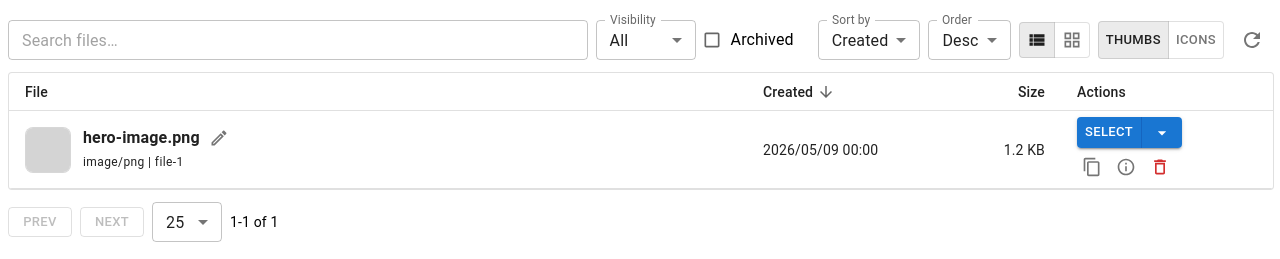
FmMediaLibrary split select menu › closes the image variant menu from keyboard Escape
Check: the text "hero-image.png" is shown, box [83,126,200,150]
Click the button named "select variant size".
click(1162, 133)  # box [1142,117,1182,148]
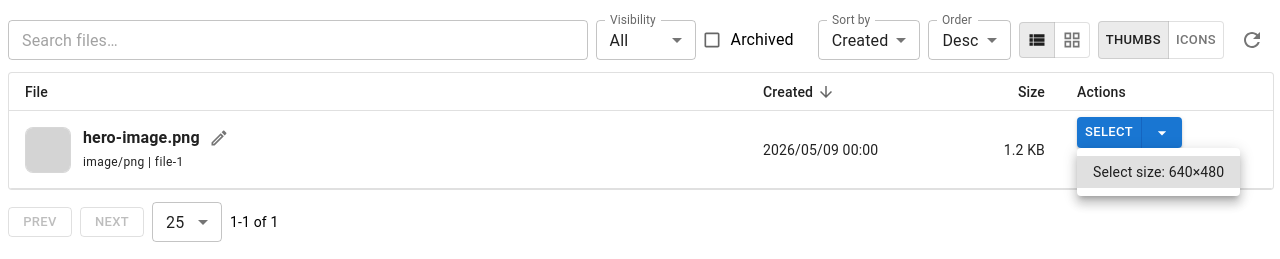
Press Escape in the menu item "Select size: 640×480", box [1077,156,1240,188]
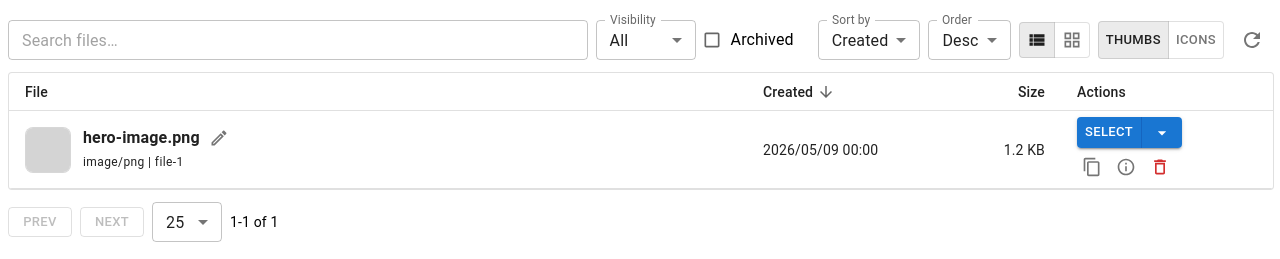
Check: the menu item "Select size: 640×480" is gone
